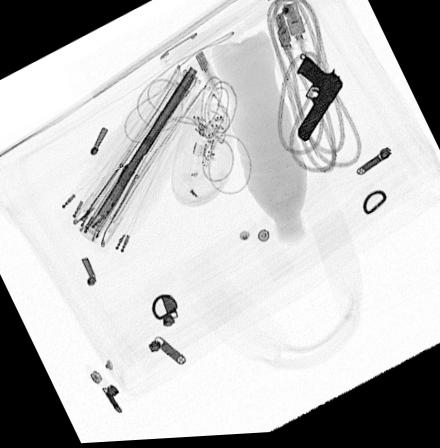Gun: (296, 58, 343, 146)
